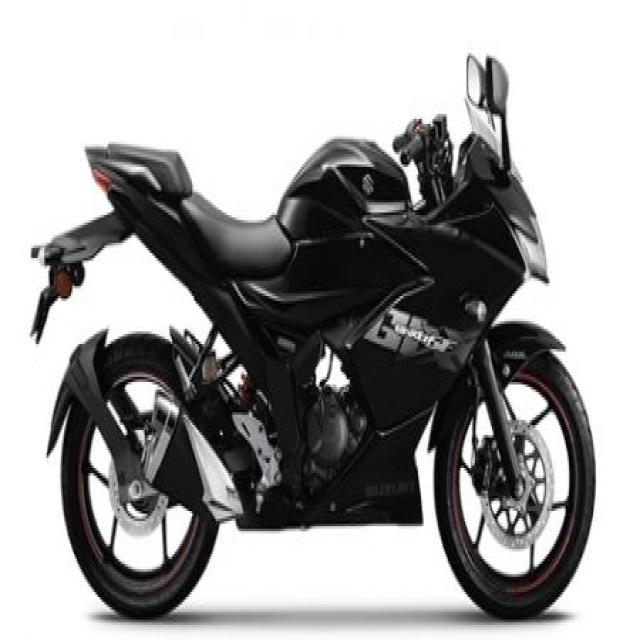motorcycle: (32, 61, 595, 618)
